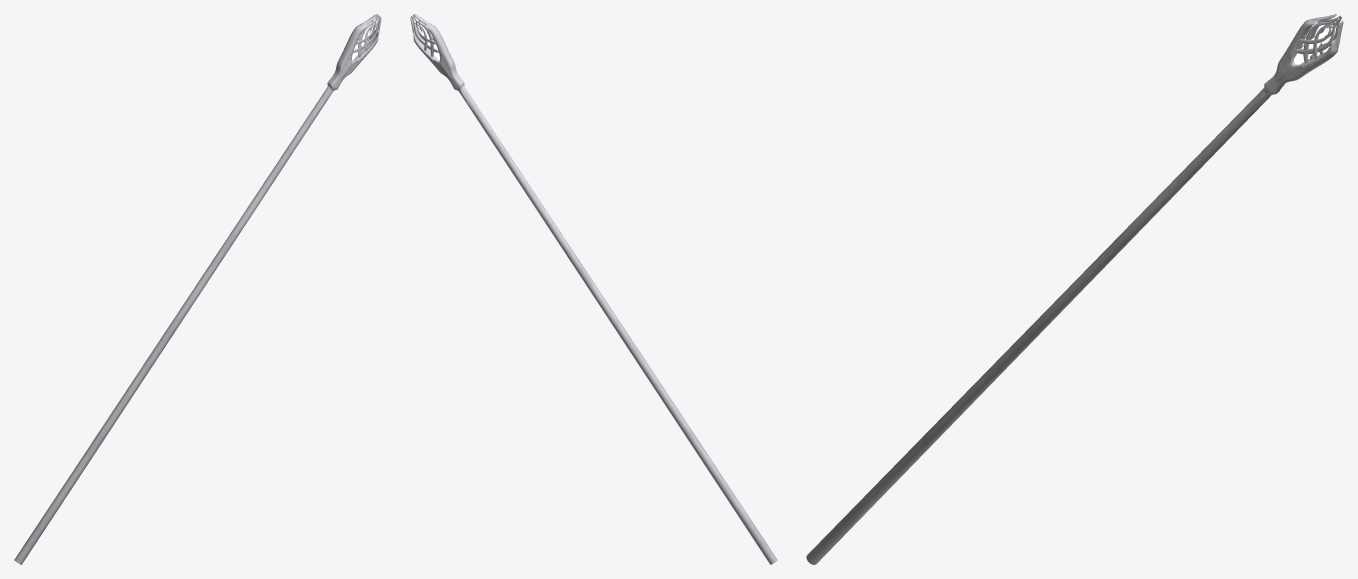
The model's file is gandalfs_staff_lord_of_the_rings.glb.
3 renders of one model, left to right at view 1: azimuth 30°, elevation 25°; view 2: azimuth 150°, elevation 25°; view 3: azimuth 330°, elevation 25°, orthographic. The views are drawn at different scales.
Visible parts, largest first — view 1: Staff_02 - Default_0; view 2: Staff_02 - Default_0; view 3: Staff_02 - Default_0.
Boxes of the visible parts, x1,y1,x2,y2 form: Staff_02 - Default_0: (14,14,381,564); Staff_02 - Default_0: (410,14,777,564); Staff_02 - Default_0: (806,14,1343,564).
Size of the model in its own units: 96.67 by 117 by 2.61.
2 materials, 1 textured.
